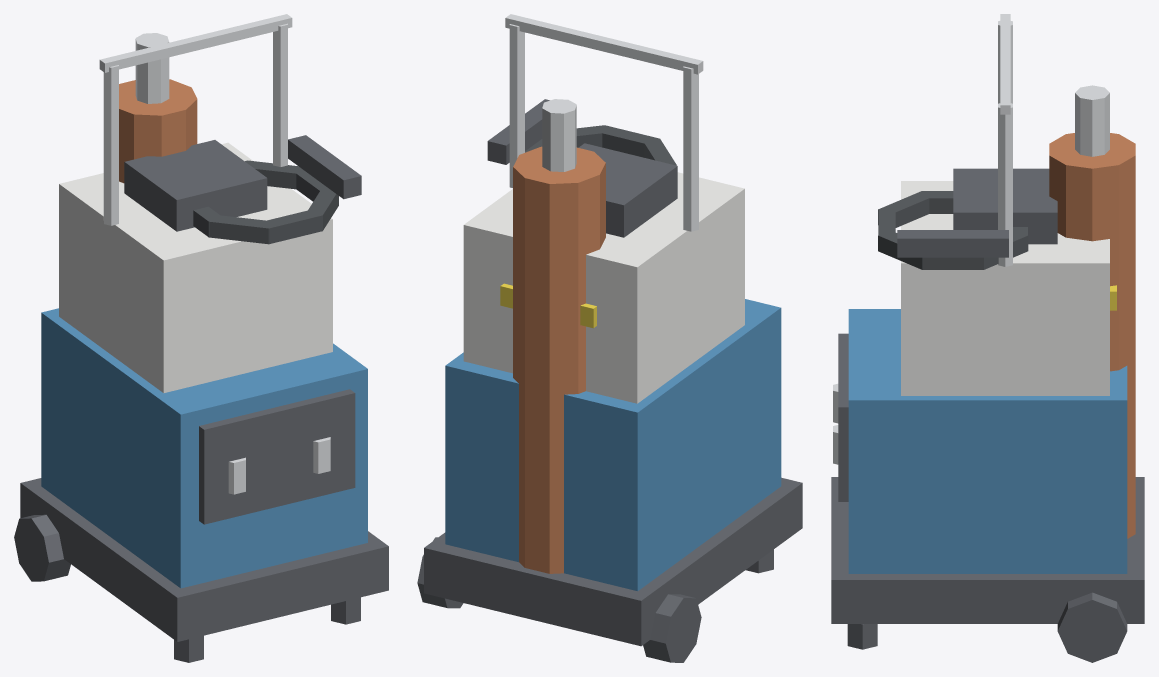
The model's file is shipyard-and-dry-dock-shipyard-and-dry-dock-welding-se-2722f071__37947.glb.
The picture shows the model from 3 angles, left to right: view 1: azimuth 30°, elevation 25°; view 2: azimuth 150°, elevation 25°; view 3: azimuth 270°, elevation 25°; orthographic projection. The views are drawn at different scales.
Visible parts, largest first — view 1: shipyard-and-dry-dock-welding-set-and-torch; view 2: shipyard-and-dry-dock-welding-set-and-torch; view 3: shipyard-and-dry-dock-welding-set-and-torch.
Part boxes in pixels (left/top/right/bottom): shipyard-and-dry-dock-welding-set-and-torch: left=14, top=14, right=388, bottom=662; shipyard-and-dry-dock-welding-set-and-torch: left=417, top=14, right=802, bottom=662; shipyard-and-dry-dock-welding-set-and-torch: left=831, top=14, right=1144, bottom=662.
Bounding box in the file's own units: 0.8 × 1.73 × 0.9.
